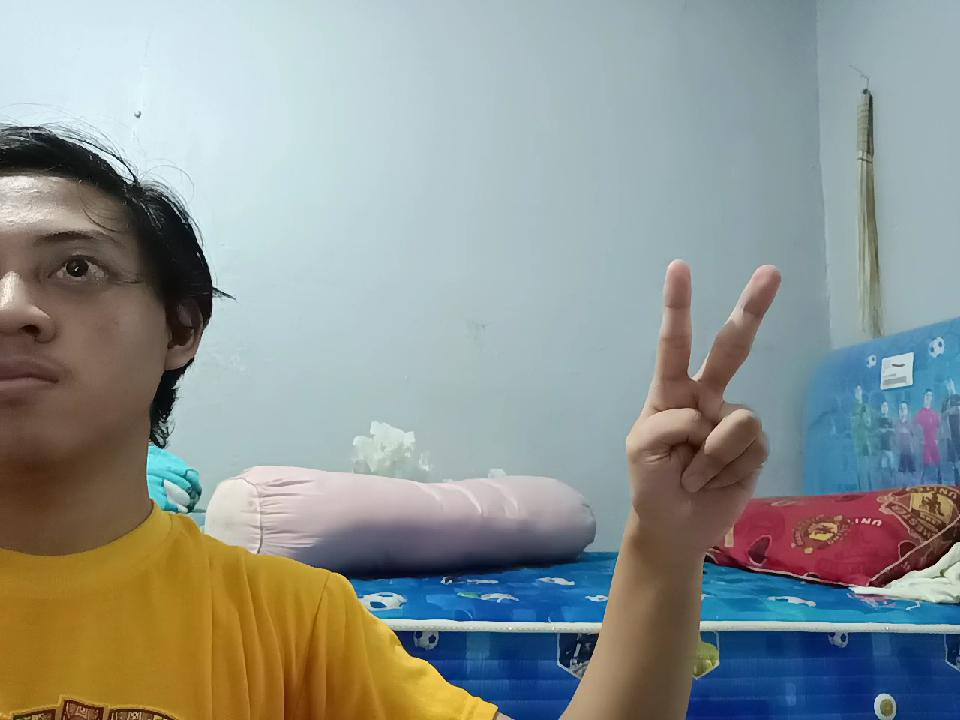scissors: (614, 259, 772, 534)
